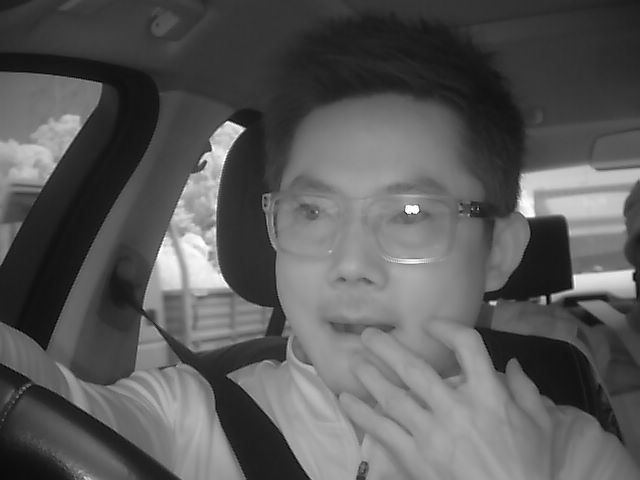hand: (348, 309, 519, 478)
